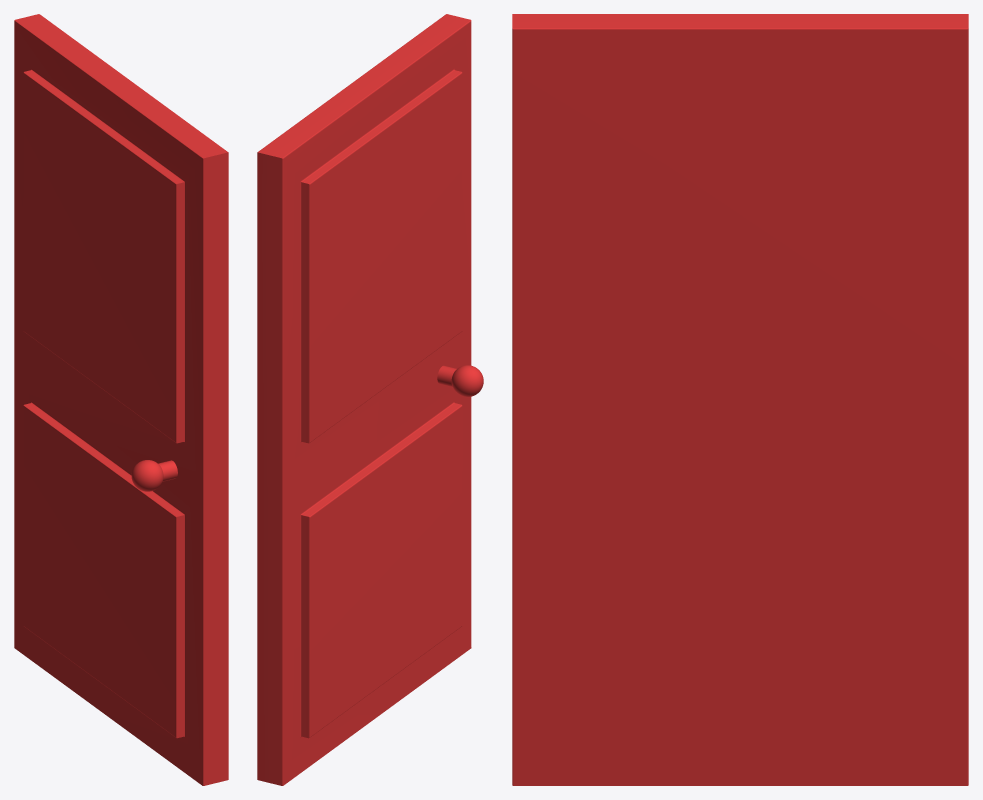
The picture shows the model from 3 angles, left to right: view 1: azimuth 30°, elevation 25°; view 2: azimuth 150°, elevation 25°; view 3: azimuth 270°, elevation 25°; orthographic projection. The views are drawn at different scales.
Parts seen in each view (by area): view 1: Uv_001; view 2: Uv_001; view 3: Uv_001.
Part boxes in pixels (x1,y1,x2,y2): Uv_001: [14, 14, 228, 785]; Uv_001: [257, 14, 483, 785]; Uv_001: [512, 14, 968, 785].
Bounding box in the file's own units: 21 × 192 × 105.
